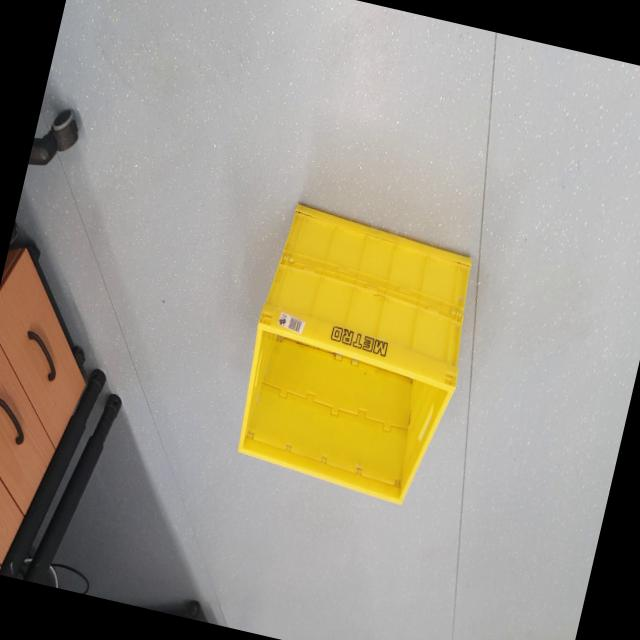box: (206, 162, 503, 540)
